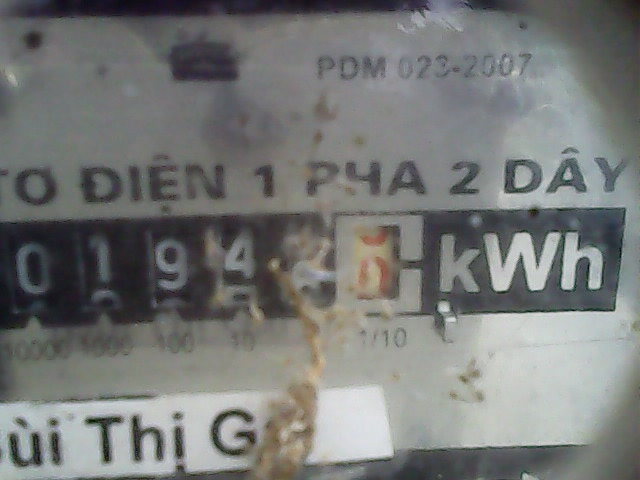phy_plate: (1, 210, 434, 323)
